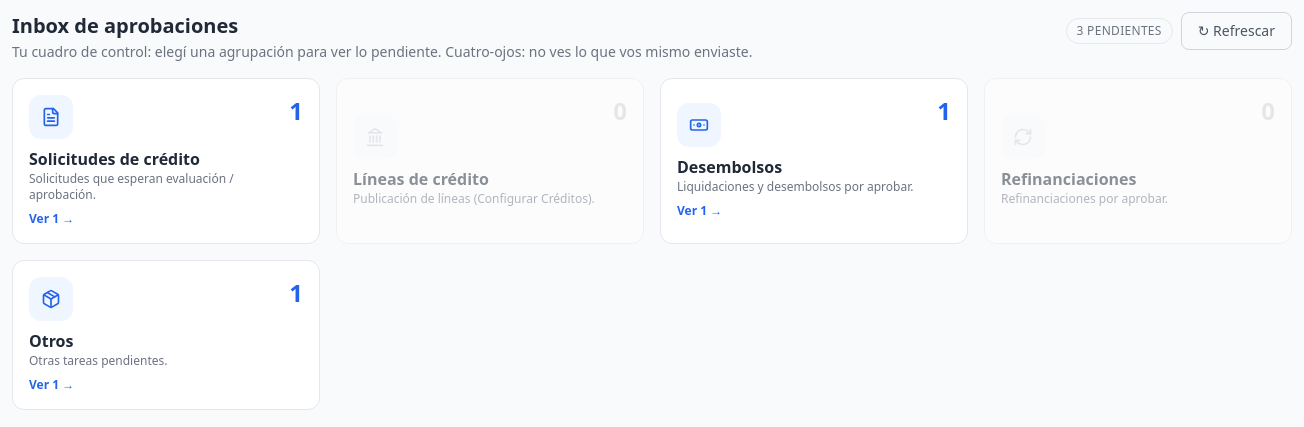
it: Inbox de aprobaciones › si faltan niveles lo aclara
Click the button "Solicitudes de crédito" at {"x": 166, "y": 161}, box [12,78,320,244]
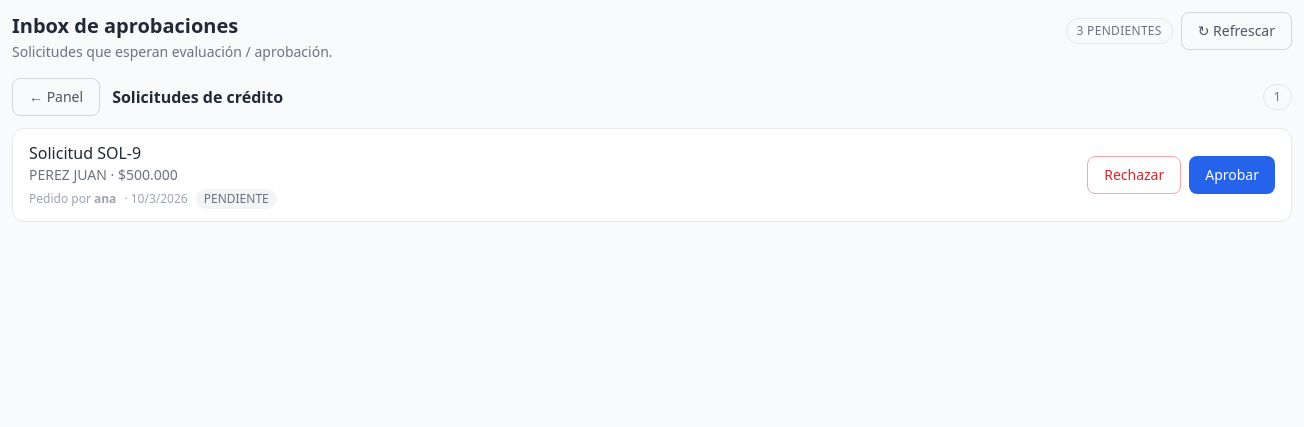
Click the button "Aprobar" at {"x": 1232, "y": 175}, box [1189,156,1275,194]
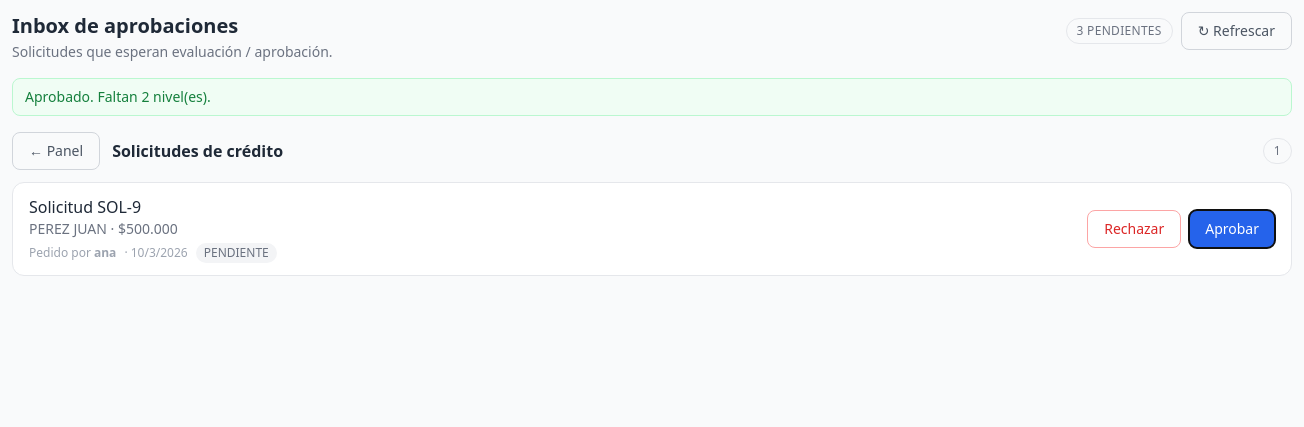
Now the text "Aprobado. Faltan 2 nivel(es)." is shown, box [12,78,1292,116]
